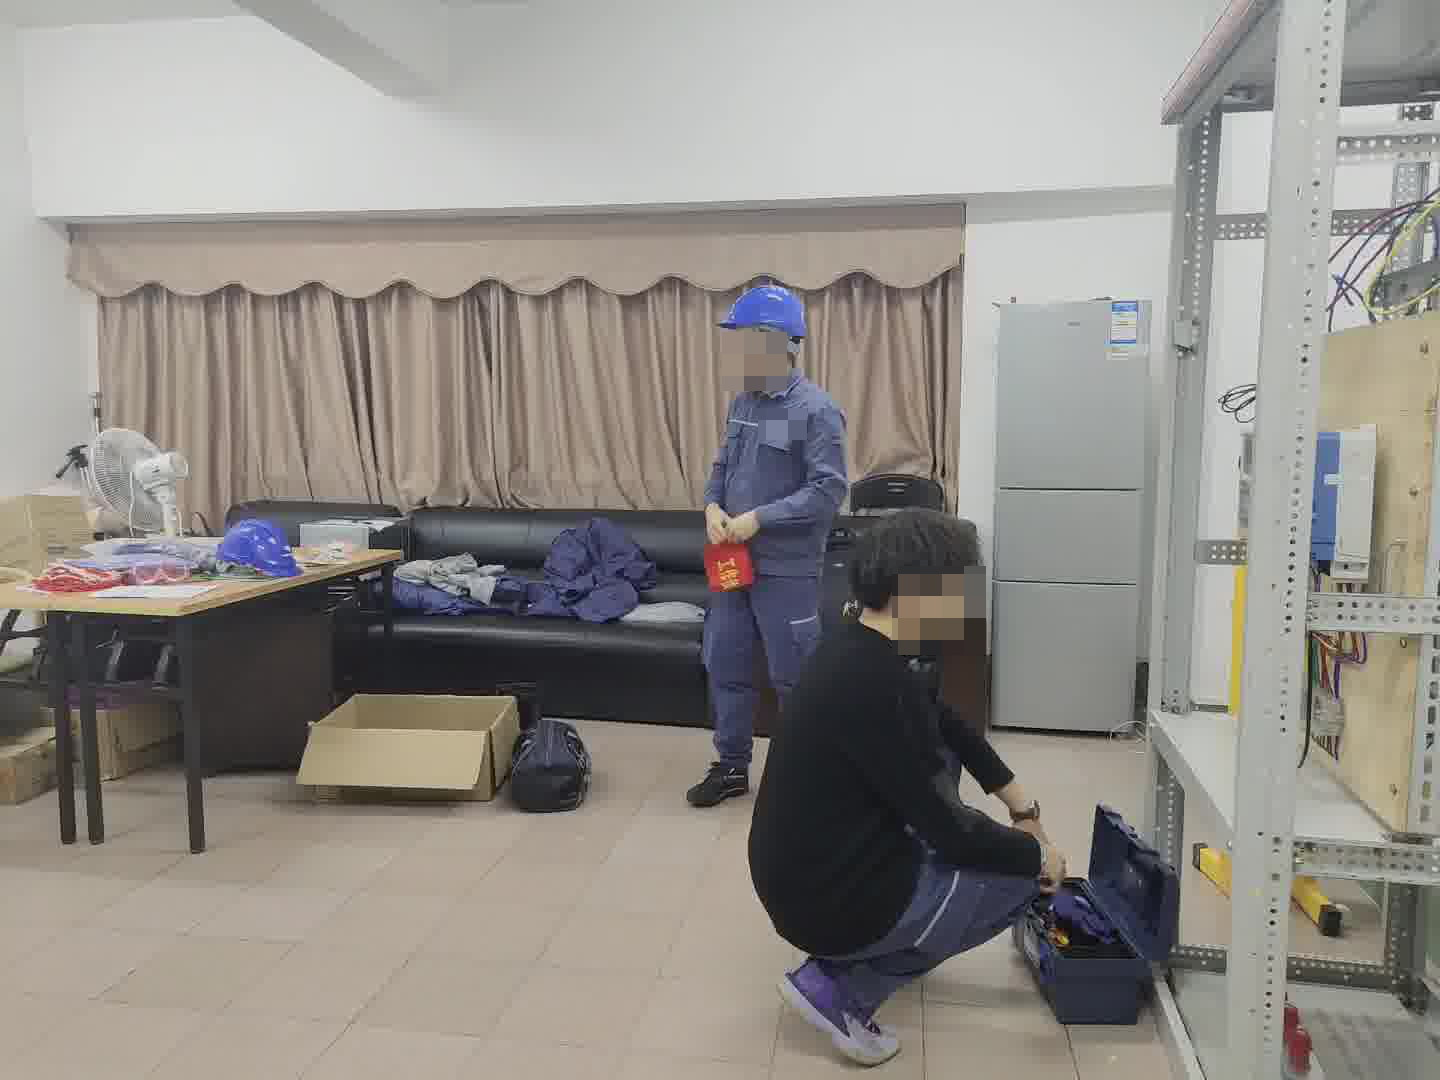downsuit: (868, 864, 1042, 984), (706, 589, 817, 759)
halt: (714, 281, 812, 387)
hand: (1040, 851, 1069, 894), (702, 502, 727, 540), (731, 511, 757, 534)
inear: (747, 324, 781, 378)
noear: (881, 570, 941, 625)
person: (754, 501, 1080, 1063), (680, 277, 858, 813)
unhalt: (854, 511, 972, 642)
upcloth: (744, 613, 1041, 924)
upsuit: (709, 377, 849, 574)
